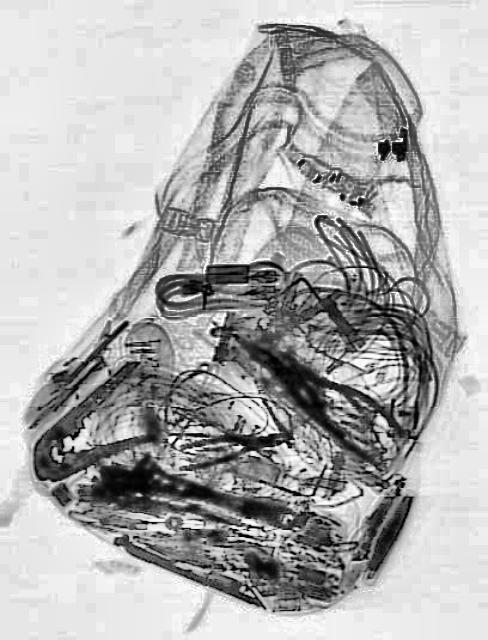Pliers: (232, 317, 410, 477), (17, 354, 169, 506), (172, 421, 286, 472)
Wrench: (92, 437, 304, 549)
